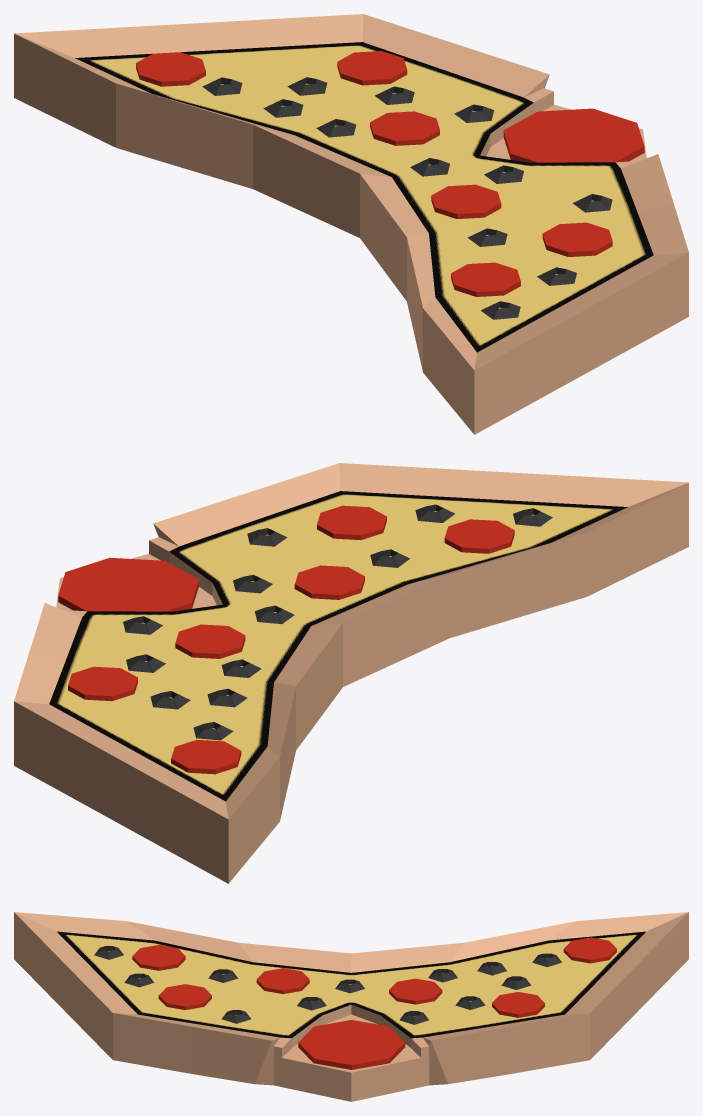
Rendered from Pizza.fbx.
3 views of the same model, one above another, from view 1: azimuth 30°, elevation 25°; view 2: azimuth 150°, elevation 25°; view 3: azimuth 270°, elevation 25° (orthographic). The views are drawn at different scales.
Visible parts, largest first — view 1: Pizza, Projectile.007, Torus; view 2: Pizza, Projectile.007, Torus; view 3: Pizza, Projectile.007, Torus.
Part boxes in pixels (<box>): Pizza: <box>14,14,688,434</box>; Projectile.007: <box>136,51,644,296</box>; Torus: <box>202,77,612,319</box>; Pizza: <box>14,463,688,883</box>; Projectile.007: <box>58,505,514,774</box>; Torus: <box>123,504,552,740</box>; Pizza: <box>14,912,688,1101</box>; Projectile.007: <box>132,937,616,1069</box>; Torus: <box>94,946,561,1024</box>.
Size of the model in its own units: 1.51 by 0.233 by 3.02.
Materials: 3 (3 with a texture image).
